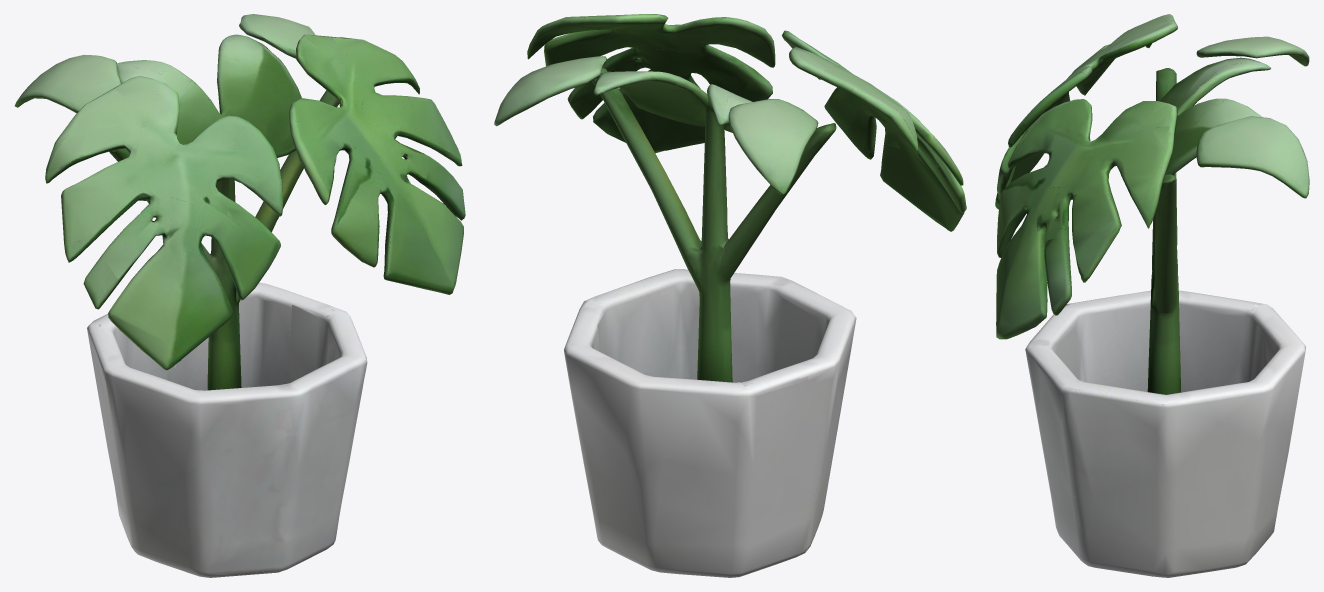
The model's file is plant.glb.
3 views of the same model, side by side, from view 1: azimuth 30°, elevation 25°; view 2: azimuth 150°, elevation 25°; view 3: azimuth 270°, elevation 25° (orthographic). The views are drawn at different scales.
Visible parts, largest first — view 1: model.001; view 2: model.001; view 3: model.001.
Part boxes in pixels (box(x1,y1,x2,y2)): model.001: box(14, 14, 465, 577); model.001: box(494, 14, 966, 577); model.001: box(995, 14, 1309, 577).
Bounding box in the file's own units: 1.57 × 1.84 × 1.1.
Materials: 1 (1 with a texture image).
